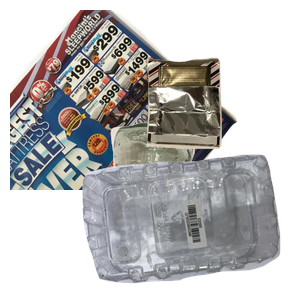glass: (98, 120, 286, 300)
paper: (10, 10, 240, 190)
plastic: (80, 152, 300, 300)
trash: (144, 55, 300, 197)
